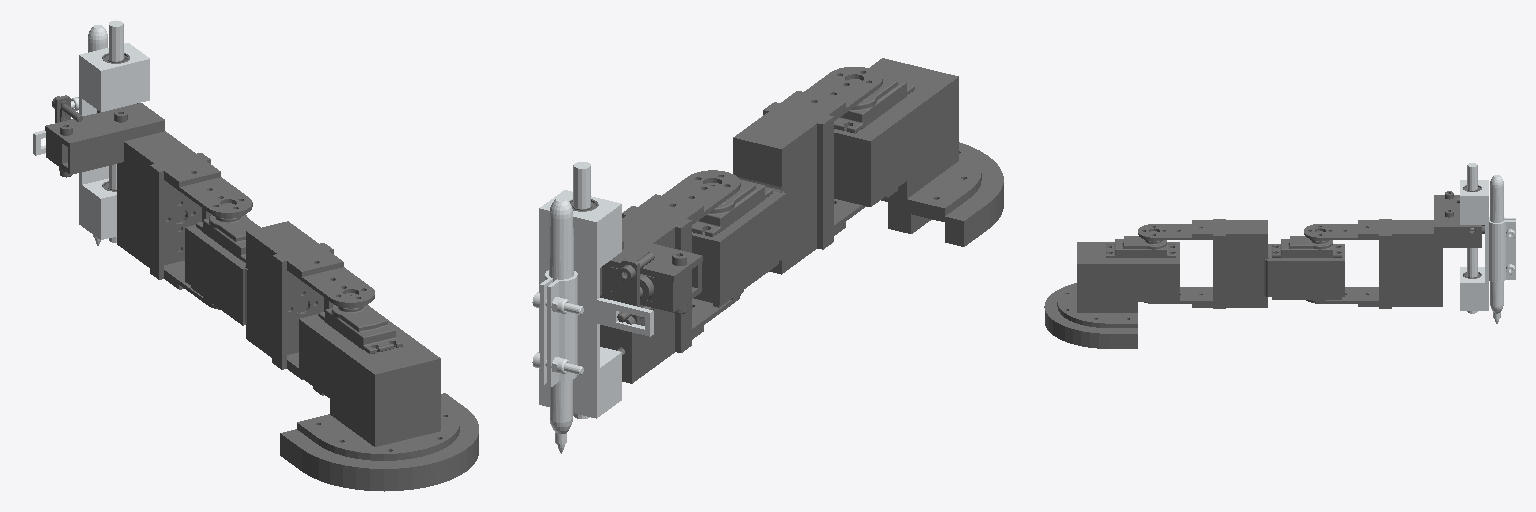
URDF robot description (drawing_robot_description):
<?xml version="1.0" encoding="utf-8"?>
<!-- This URDF was automatically created by SolidWorks to URDF Exporter! Originally created by [author] ([email redacted]) 
     Commit Version: 1.6.0-4-g7f85cfe  Build Version: 1.6.7995.38578
     For more information, please see http://wiki.ros.org/sw_urdf_exporter -->
<robot
  name="drawing_robot_description">
  <link
    name="base_link">
    <inertial>
      <origin
        xyz="2.2369E-05 -0.0095991 0.018203"
        rpy="0 0 0" />
      <mass
        value="0.19207" />
      <inertia
        ixx="0.00010604"
        ixy="-5.7604E-12"
        ixz="2.8656E-10"
        iyy="9.0218E-05"
        iyz="-8.2785E-06"
        izz="0.0001446" />
    </inertial>
    <visual>
      <origin
        xyz="0 0 0"
        rpy="0 0 0" />
      <geometry>
        <mesh
          filename="package://drawing_robot_description/meshes/base_link.STL" />
      </geometry>
      <material
        name="">
        <color
          rgba="0.5 0.5 0.5 1" />
      </material>
    </visual>
    <collision>
      <origin
        xyz="0 0 0"
        rpy="0 0 0" />
      <geometry>
        <mesh
          filename="package://drawing_robot_description/meshes/base_link.STL" />
      </geometry>
    </collision>
  </link>
  <link
    name="arm_1">
    <inertial>
      <origin
        xyz="9.8801E-05 0.081425 0.0056756"
        rpy="0 0 0" />
      <mass
        value="0.16147" />
      <inertia
        ixx="0.00012764"
        ixy="-5.7417E-12"
        ixz="2.8659E-10"
        iyy="5.7319E-05"
        iyz="6.0193E-06"
        izz="9.0777E-05" />
    </inertial>
    <visual>
      <origin
        xyz="0 0 0"
        rpy="0 0 0" />
      <geometry>
        <mesh
          filename="package://drawing_robot_description/meshes/arm_1.STL" />
      </geometry>
      <material
        name="">
        <color
          rgba="0.5 0.5 0.5 1" />
      </material>
    </visual>
    <collision>
      <origin
        xyz="0 0 0"
        rpy="0 0 0" />
      <geometry>
        <mesh
          filename="package://drawing_robot_description/meshes/arm_1.STL" />
      </geometry>
    </collision>
  </link>
  <joint
    name="base_to_arm1"
    type="revolute">
    <origin
      xyz="0 0.019815 0.0295"
      rpy="0 0 0" />
    <parent
      link="base_link" />
    <child
      link="arm_1" />
    <axis
      xyz="0 0 1" />
    <limit
      lower="-1.5707"
      upper="1.5707"
      effort="7.605"
      velocity="8.05" />
  </joint>
  <link
    name="arm_2">
    <inertial>
      <origin
        xyz="-0.0040009 0.073708 0.014062"
        rpy="0 0 0" />
      <mass
        value="0.15444" />
      <inertia
        ixx="7.5619E-05"
        ixy="-8.4032E-08"
        ixz="1.738E-06"
        iyy="6.6114E-05"
        iyz="-3.3092E-06"
        izz="4.0148E-05" />
    </inertial>
    <visual>
      <origin
        xyz="0 0 0"
        rpy="0 0 0" />
      <geometry>
        <mesh
          filename="package://drawing_robot_description/meshes/arm_2.STL" />
      </geometry>
      <material
        name="">
        <color
          rgba="0.5 0.5 0.5 1" />
      </material>
    </visual>
    <collision>
      <origin
        xyz="0 0 0"
        rpy="0 0 0" />
      <geometry>
        <mesh
          filename="package://drawing_robot_description/meshes/arm_2.STL" />
      </geometry>
    </collision>
  </link>
  <joint
    name="arm_2_to_arm_1"
    type="revolute">
    <origin
      xyz="0 0.12845 0.00093551"
      rpy="0 0 0" />
    <parent
      link="arm_1" />
    <child
      link="arm_2" />
    <axis
      xyz="0 0 1" />
    <limit
      lower="-1.5707"
      upper="1.5707"
      effort="7.605"
      velocity="8.05" />
  </joint>
  <link
    name="hand">
    <inertial>
      <origin
        xyz="-0.00030849 -0.0071882 0.0050741"
        rpy="0 0 0" />
      <mass
        value="0.078332" />
      <inertia
        ixx="9.0141E-05"
        ixy="-1.4456E-07"
        ixz="-1.3295E-07"
        iyy="9.0236E-05"
        iyz="3.1377E-07"
        izz="9.782E-06" />
    </inertial>
    <visual>
      <origin
        xyz="0 0 0"
        rpy="0 0 0" />
      <geometry>
        <mesh
          filename="package://drawing_robot_description/meshes/hand.STL" />
      </geometry>
      <material
        name="">
        <color
          rgba="0.89804 0.91765 0.92941 1" />
      </material>
    </visual>
    <collision>
      <origin
        xyz="0 0 0"
        rpy="0 0 0" />
      <geometry>
        <mesh
          filename="package://drawing_robot_description/meshes/hand.STL" />
      </geometry>
    </collision>
  </link>
  <joint
    name="hand_to_arm2"
    type="prismatic">
    <origin
      xyz="0 0.11785 0.027766"
      rpy="3.1416 0 0" />
    <parent
      link="arm_2" />
    <child
      link="hand" />
    <axis
      xyz="0 0 -1" />
    <limit
      lower="0"
      upper="0.02"
      effort="0.636"
      velocity="3" />
  </joint>
</robot>

--- Facts derived from the render (not from the file) ---
3 views of the same robot in one strip: view 1: azimuth 30°, elevation 25°; view 2: azimuth 150°, elevation 25°; view 3: azimuth 270°, elevation 25° (orthographic).
Robot: drawing_robot_description — 4 links, 3 joints (2 revolute, 1 prismatic); root link base_link; default pose: every joint at zero.
Visible links, largest first — view 1: base_link, arm_2, arm_1, hand; view 2: arm_1, base_link, hand, arm_2; view 3: arm_1, base_link, arm_2, hand.
Link boxes in pixels (x1,y1,x2,y2): base_link: (280,305,478,491); arm_2: (45,53,252,309); arm_1: (185,214,374,379); hand: (33,20,149,245); arm_1: (692,67,882,307); base_link: (834,58,1003,246); hand: (532,162,653,453); arm_2: (569,170,740,383); arm_1: (1138,219,1344,308); base_link: (1044,236,1179,348); arm_2: (1304,185,1484,308); hand: (1460,163,1515,323).
Bounding box of the posed robot: 0.1 × 0.3644 × 0.1364 m (x, y, z).
Meshes: 4 distinct files referenced, 4 mesh visuals loaded (4 binary STL).